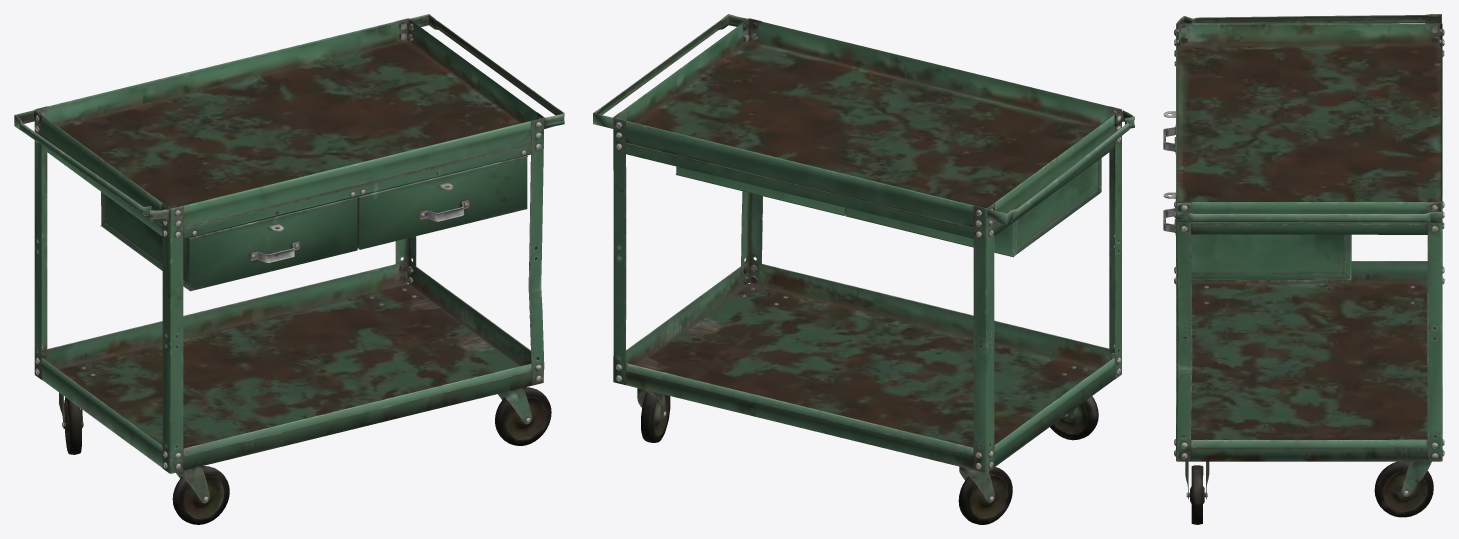
Rendered from carrello-attrezzi.glb.
3 views of the same model, side by side, from view 1: azimuth 30°, elevation 25°; view 2: azimuth 150°, elevation 25°; view 3: azimuth 270°, elevation 25° (orthographic). The views are drawn at different scales.
Parts seen in each view (by area): view 1: tool_cart; view 2: tool_cart; view 3: tool_cart.
Boxes of the visible parts, x1=… form: tool_cart: x1=14, y1=14, x2=564, y2=524; tool_cart: x1=593, y1=14, x2=1134, y2=524; tool_cart: x1=1163, y1=14, x2=1444, y2=524.
Size of the model in its own units: 1.27 by 0.9653 by 0.7537.
Materials: 1 (1 with a texture image).
